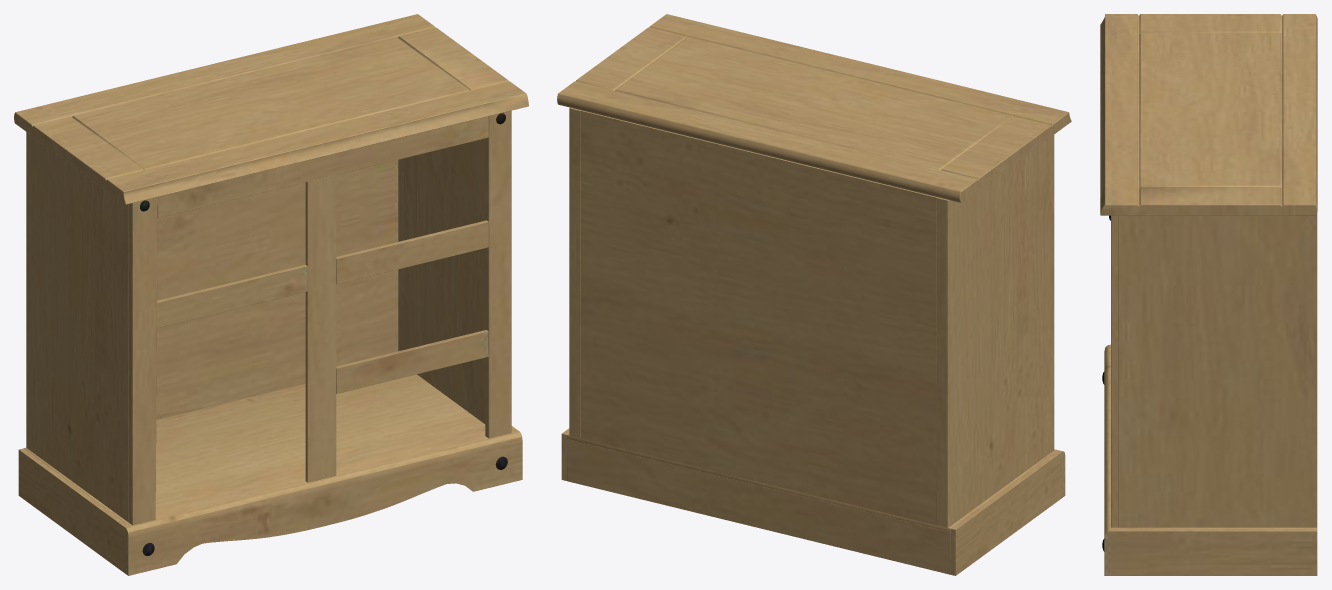
3 views of the same model, side by side, from view 1: azimuth 30°, elevation 25°; view 2: azimuth 150°, elevation 25°; view 3: azimuth 270°, elevation 25° (orthographic). The views are drawn at different scales.
Visible parts, largest first — view 1: world; view 2: world; view 3: world.
Part boxes in pixels (x1,y1,x2,y2): world: (14,14,528,575); world: (557,14,1071,575); world: (1100,14,1317,575).
Size of the model in its own units: 0.915 by 0.835 by 0.44.
Materials: 1 (1 with a texture image).
